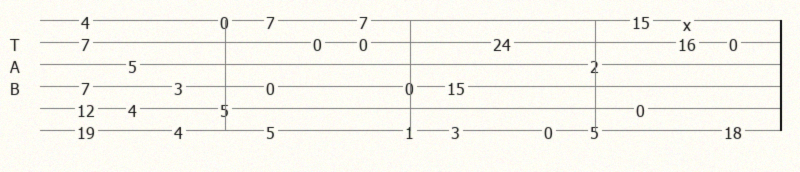0: (220, 12, 233, 28), (266, 78, 279, 94), (313, 34, 326, 50), (359, 34, 372, 50), (405, 78, 418, 94), (544, 122, 557, 138), (636, 100, 649, 116), (729, 34, 742, 50)
1: (405, 122, 418, 138)
12: (77, 100, 99, 116)
15: (447, 78, 469, 94), (632, 12, 654, 28)
16: (678, 34, 700, 50)
18: (724, 122, 746, 138)
19: (77, 122, 99, 138)
2: (590, 56, 603, 72)
24: (493, 34, 515, 50)
3: (174, 78, 187, 94), (451, 122, 464, 138)
4: (81, 12, 94, 28), (128, 100, 141, 116), (174, 122, 187, 138)
5: (128, 56, 141, 72), (220, 100, 233, 116), (266, 122, 279, 138), (590, 122, 603, 138)
7: (81, 78, 94, 94), (81, 34, 94, 50), (266, 12, 279, 28), (359, 12, 372, 28)
x: (683, 14, 695, 27)
